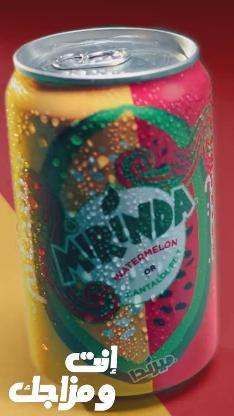Can: (3, 28, 219, 402)
